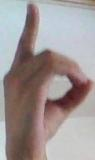D1: (1, 0, 95, 160)
